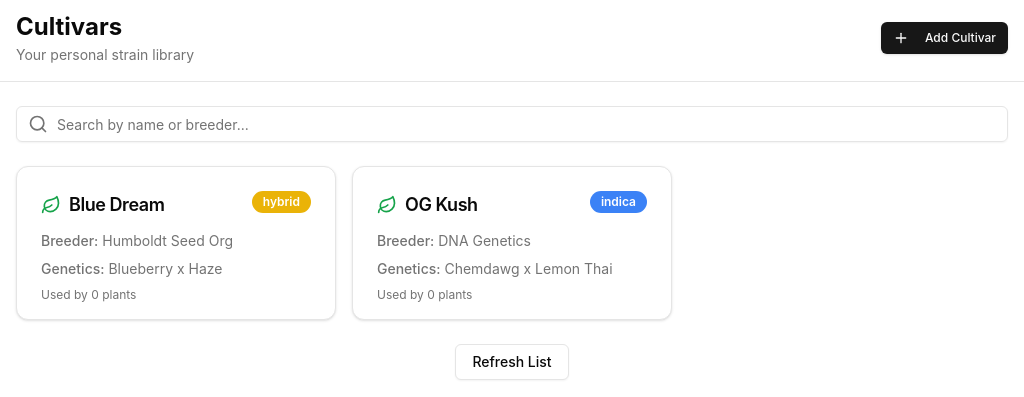
Test case: CultivarsListPage › filters cultivars by breeder when searching
Step 1. Type "dna" into the search field with placeholder "Search by name or breeder..." → (512, 124), box [16,106,1008,142]
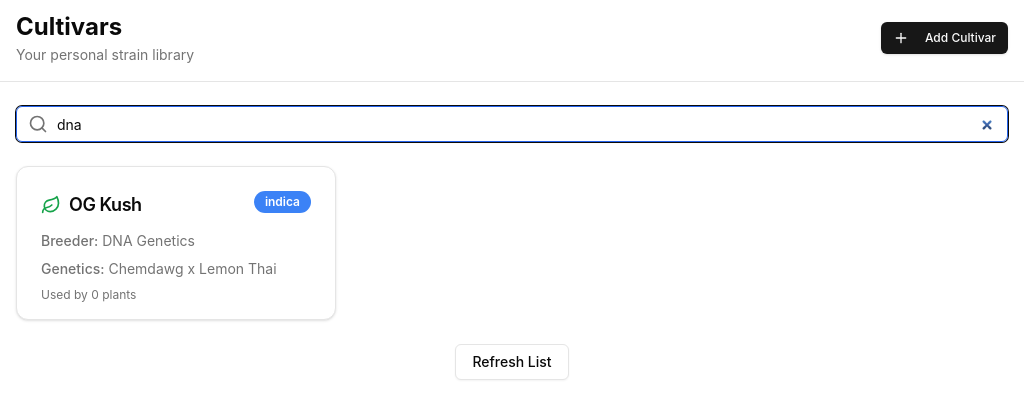
Expected: the text "OG Kush" is shown, [69,191,142,219]
Now the button "Blue Dream" is gone
